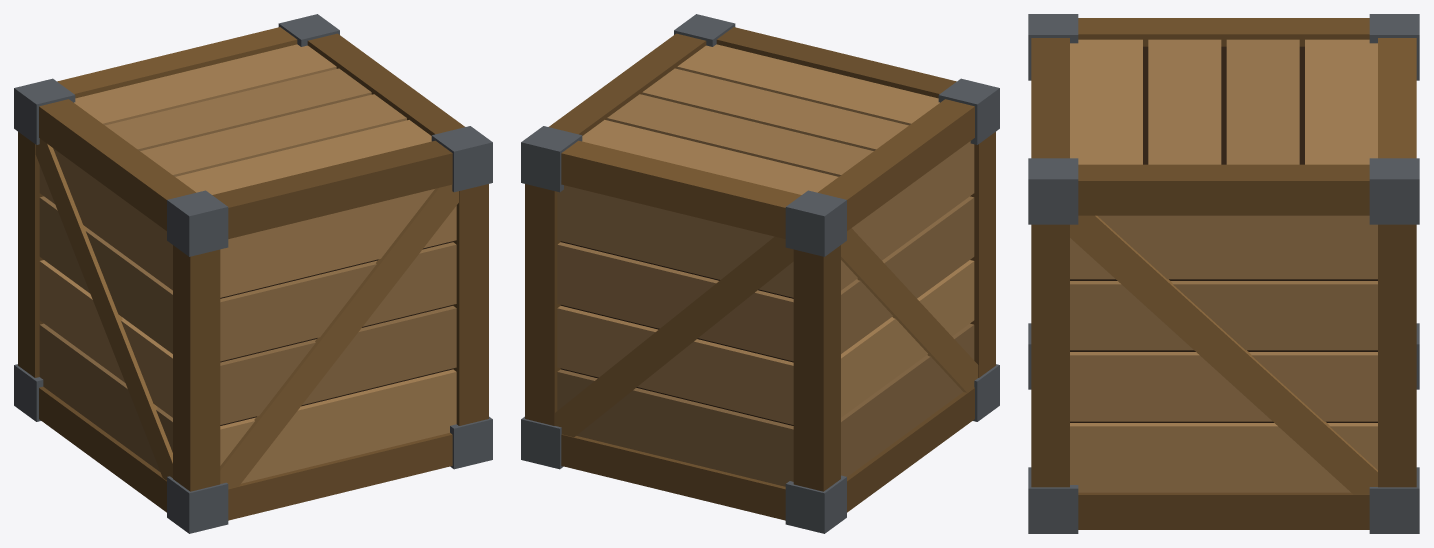
File: crate.glb
3 renders of one model, left to right at view 1: azimuth 30°, elevation 25°; view 2: azimuth 150°, elevation 25°; view 3: azimuth 270°, elevation 25°, orthographic. The views are drawn at different scales.
Visible parts, largest first — view 1: mesh0; view 2: mesh0; view 3: mesh0.
Boxes of the visible parts, bbox=[...] form: mesh0: bbox=[14, 14, 492, 533]; mesh0: bbox=[521, 14, 999, 533]; mesh0: bbox=[1028, 14, 1419, 533].
Bounding box in the file's own units: 1.02 × 1.02 × 1.02.
